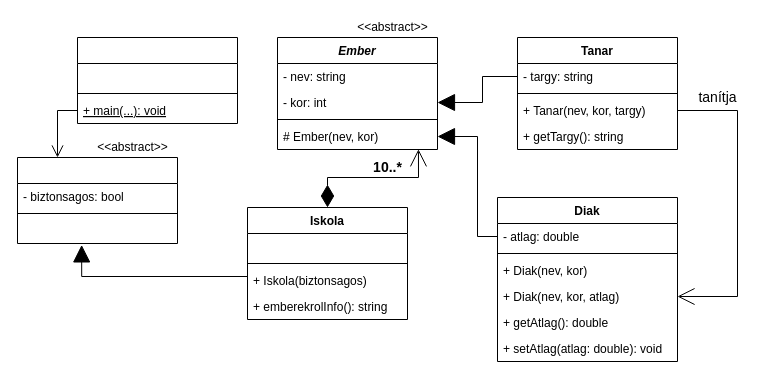
Image size: 772x381. Some labels were removed from this diagram. Each missing label, with the box of its shape:
Epulet: (16, 156, 178, 244)
Program: (76, 36, 238, 124)
